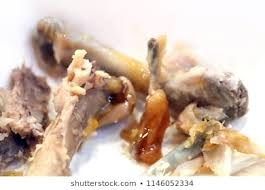kitchen_waste: (29, 10, 255, 124), (19, 46, 137, 177), (150, 102, 265, 177), (124, 34, 177, 164)
